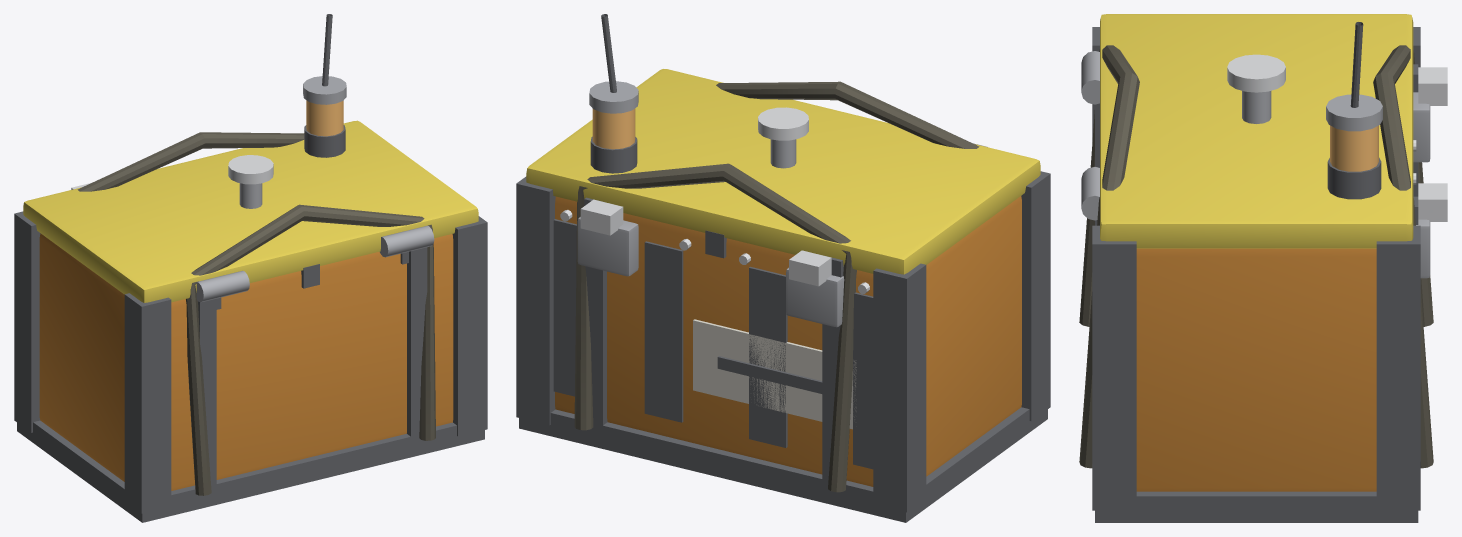
File: PR_airdrop_crate.fbx
3 renders of one model, left to right at view 1: azimuth 30°, elevation 25°; view 2: azimuth 150°, elevation 25°; view 3: azimuth 270°, elevation 25°, orthographic. The views are drawn at different scales.
Visible parts, largest first — view 1: PR_airdrop_crate; view 2: PR_airdrop_crate; view 3: PR_airdrop_crate.
Part boxes in pixels (bbox=[...]): PR_airdrop_crate: bbox=[14, 14, 487, 522]; PR_airdrop_crate: bbox=[516, 14, 1050, 522]; PR_airdrop_crate: bbox=[1079, 14, 1447, 522].
Bounding box in the file's own units: 1.05 × 1.05 × 0.7517.
